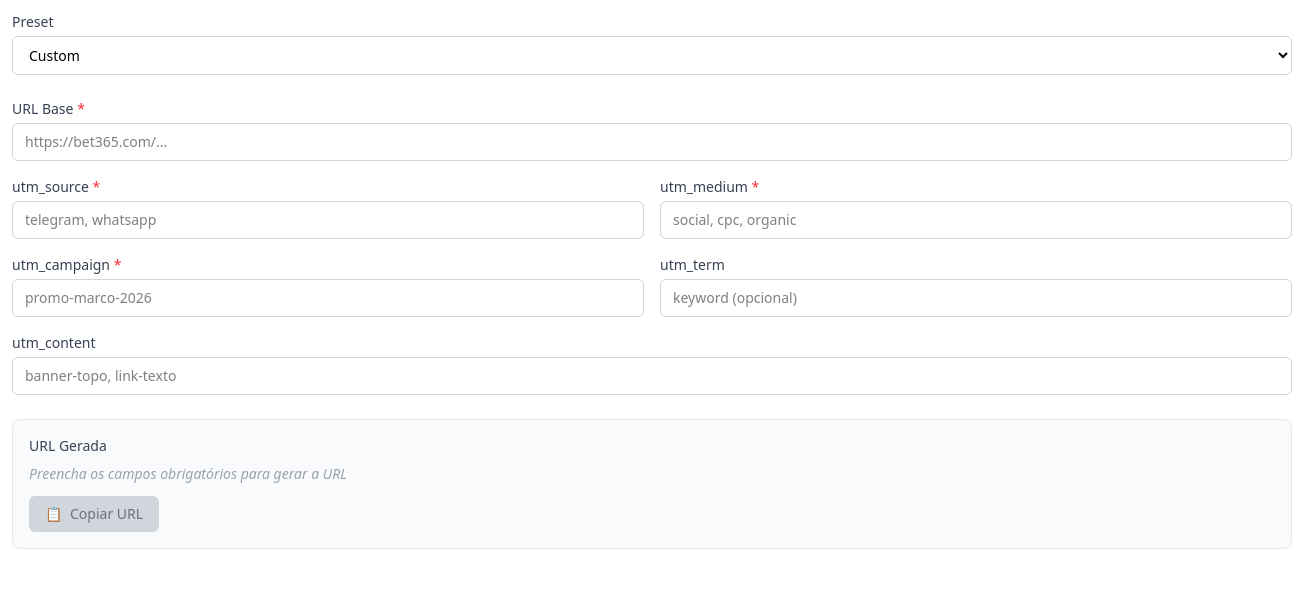
Test: UtmBuilder › enables copy button when all required fields are filled
This screenshot has width=1304, height=592.
Type "https://example.com" into the field with placeholder "https://bet365.com/..." at (652, 142), box [12,123,1292,161]
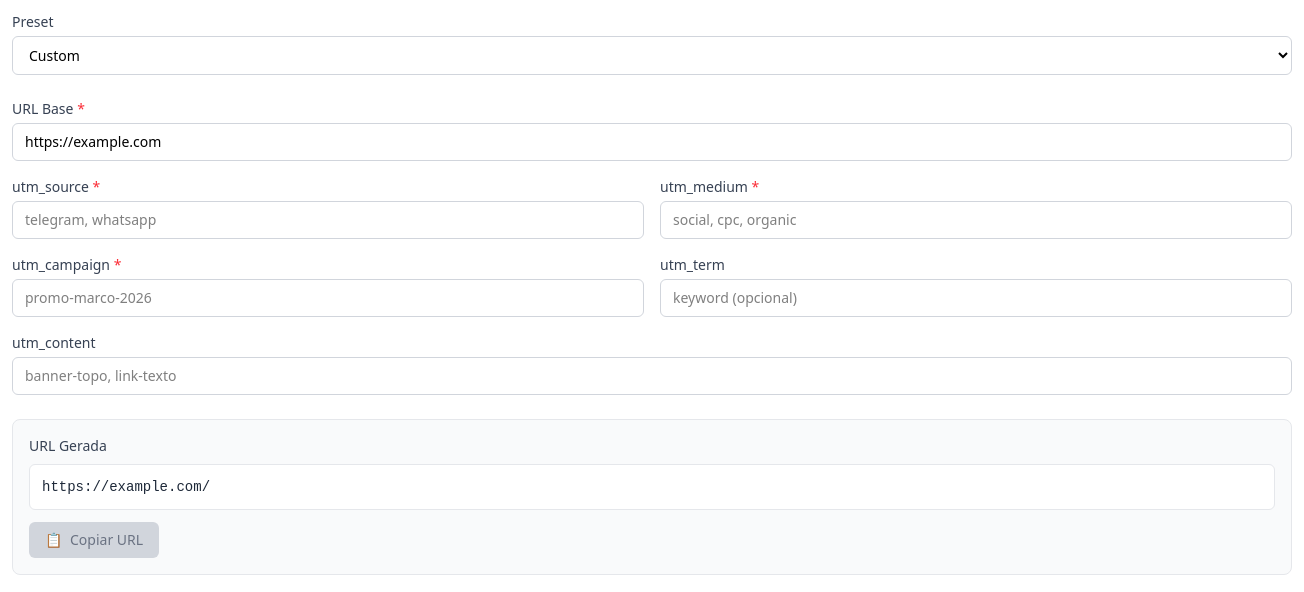
Type "telegram" into the field with placeholder "telegram, whatsapp" at (328, 220), box [12,201,644,239]
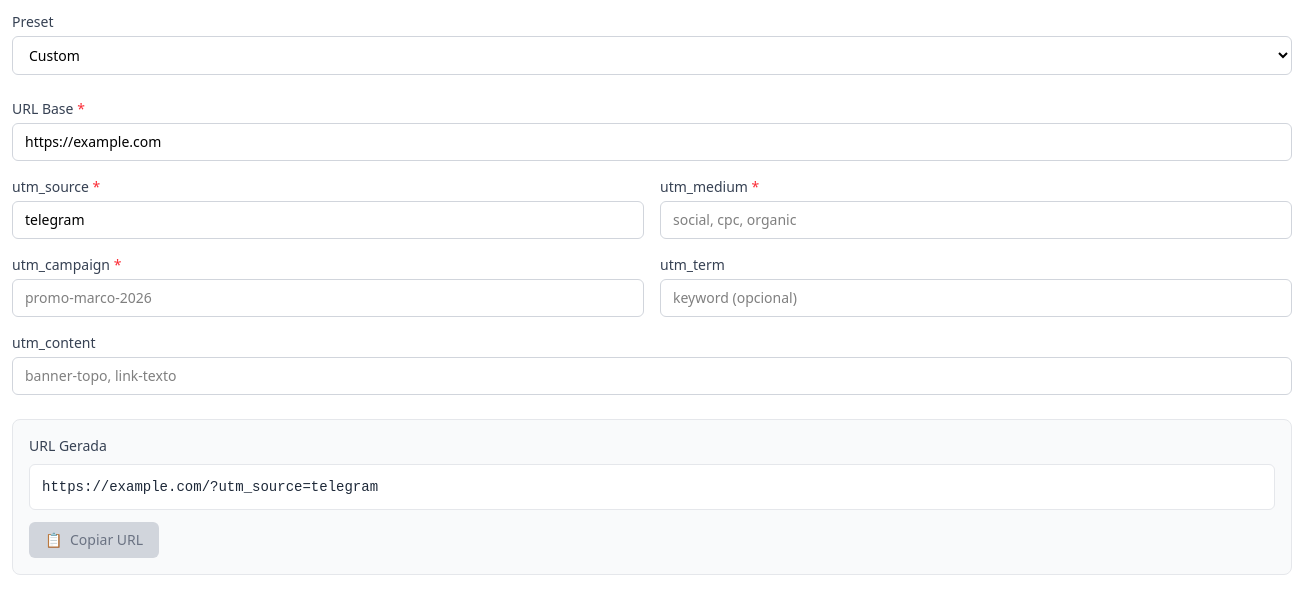
Type "social" into the field with placeholder "social, cpc, organic" at (976, 220), box [660,201,1292,239]
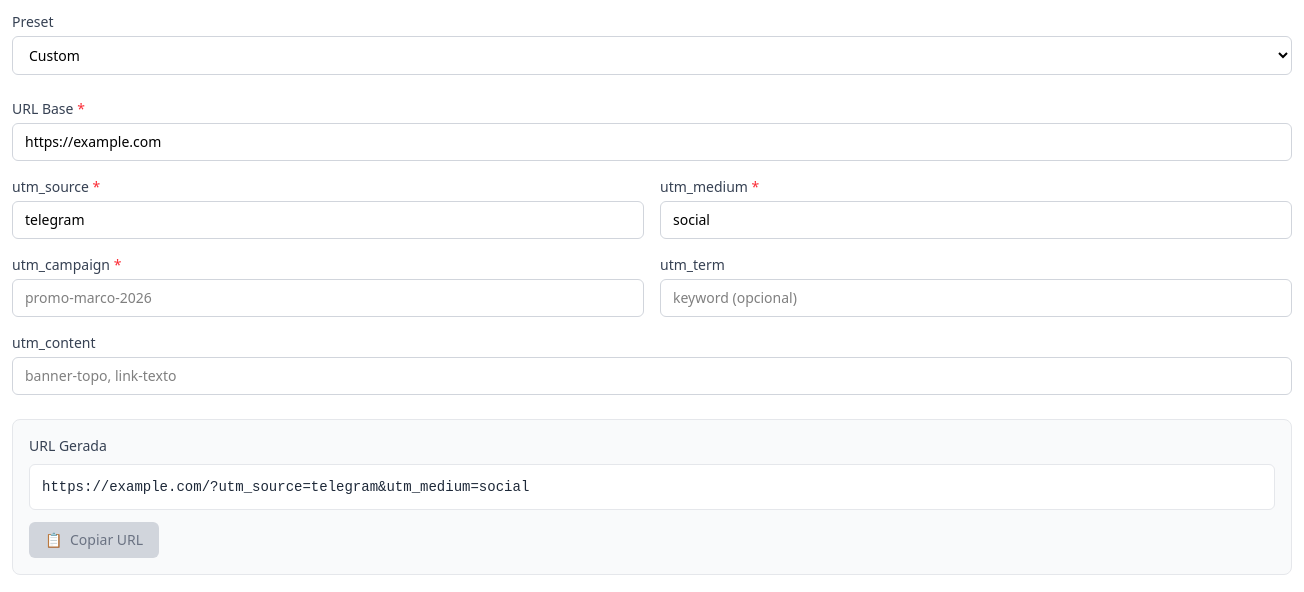
Type "campaign" into the field with placeholder "promo-marco-2026" at (328, 298), box [12,279,644,317]
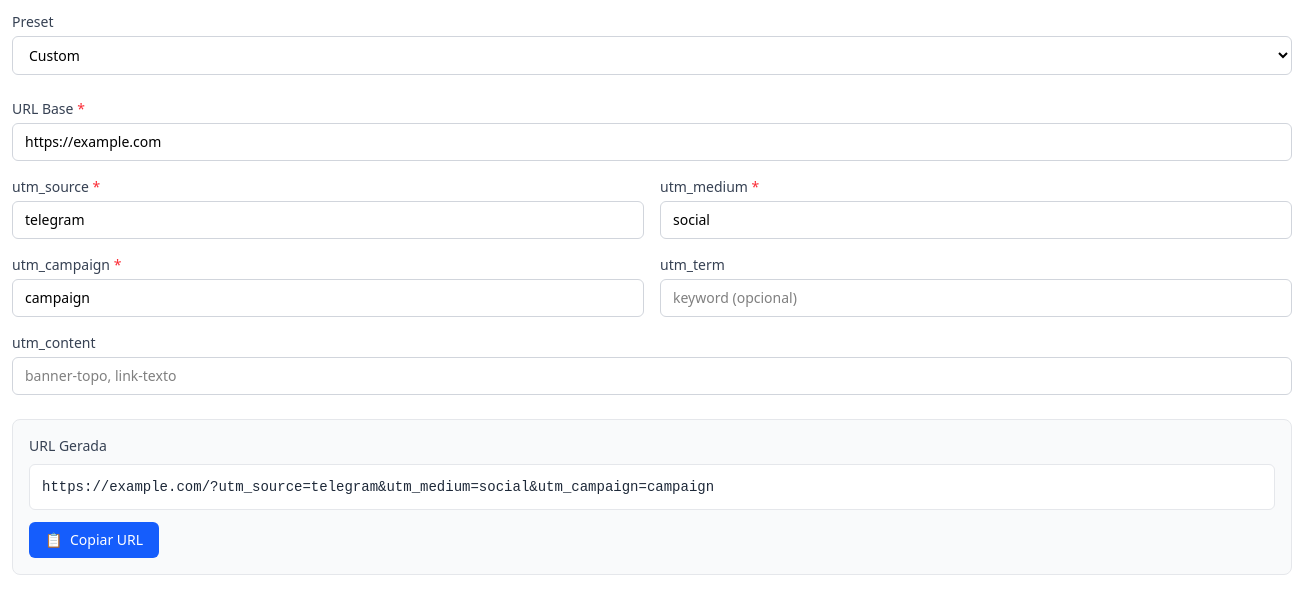
Expected: the button "📋 Copiar URL" is enabled, [29,522,159,558]
